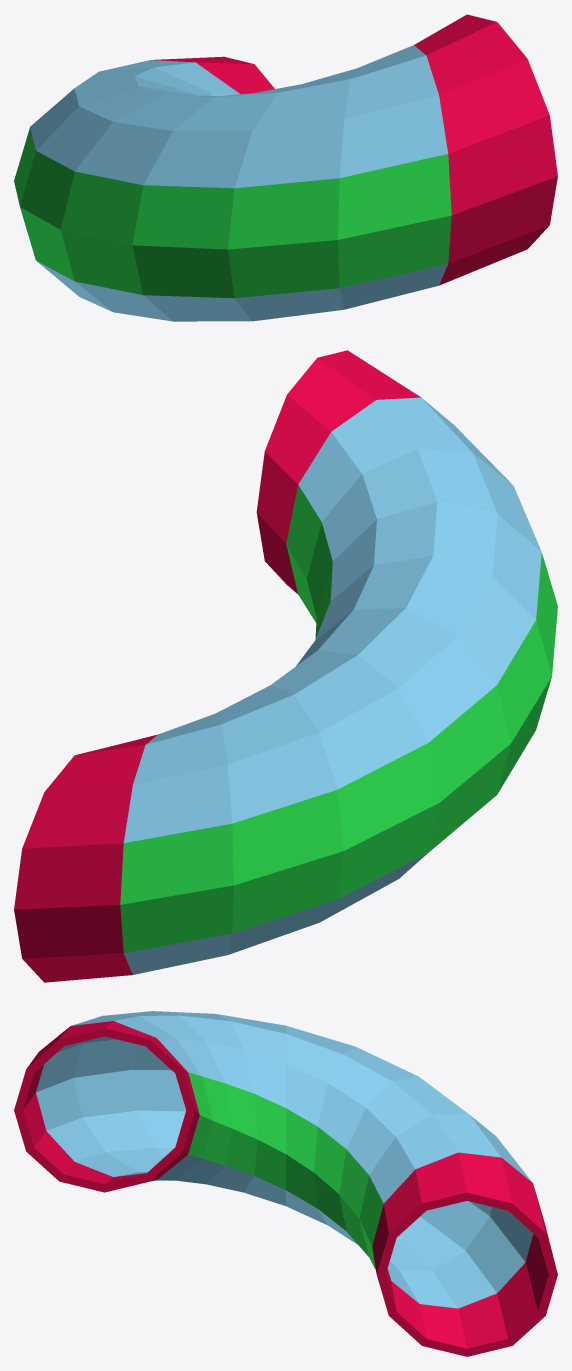
The model's file is Slide 3.fbx.
3 renders of one model, top to bottom at view 1: azimuth 30°, elevation 25°; view 2: azimuth 150°, elevation 25°; view 3: azimuth 270°, elevation 25°, orthographic. The views are drawn at different scales.
Parts seen in each view (by area): view 1: Slide 3; view 2: Slide 3; view 3: Slide 3.
Boxes of the visible parts, x1,y1,x2,y2 form: Slide 3: (14, 14, 557, 321); Slide 3: (14, 350, 557, 982); Slide 3: (14, 1011, 557, 1356).
Size of the model in its own units: 150 by 200 by 300.
